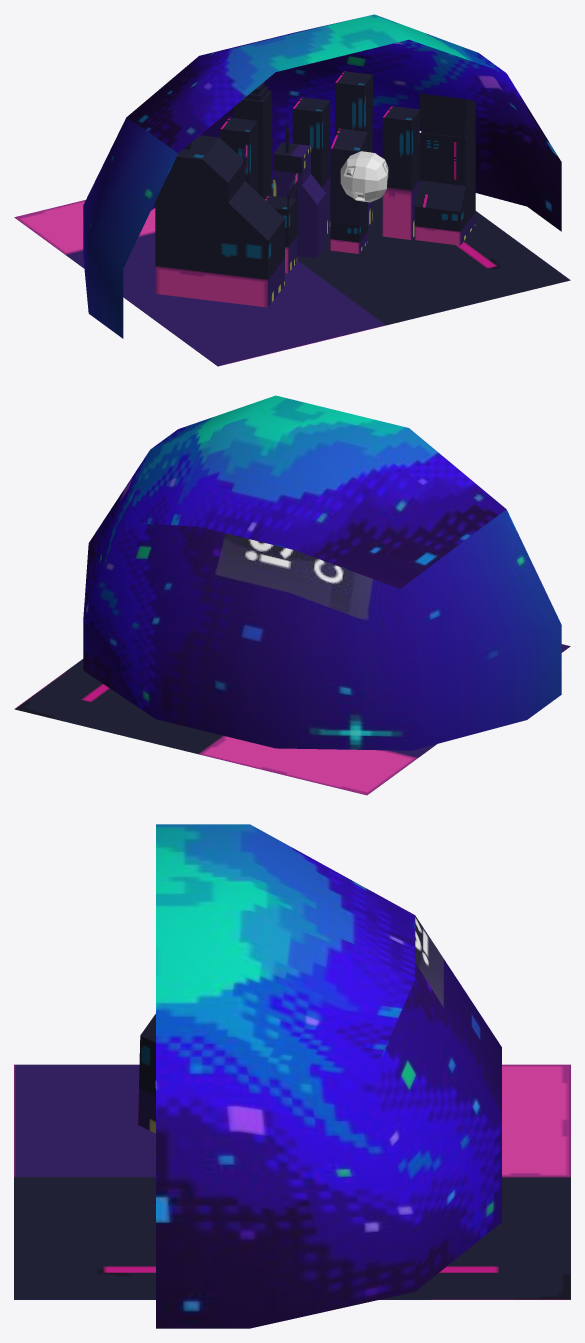
3 views of the same model, one above another, from view 1: azimuth 30°, elevation 25°; view 2: azimuth 150°, elevation 25°; view 3: azimuth 270°, elevation 25° (orthographic). The views are drawn at different scales.
Parts seen in each view (by area): view 1: Cube, Cube.003, Cube.002; view 2: Cube.003, Cube; view 3: Cube.003, Cube.
Part boxes in pixels (x1,y1,x2,y2): Cube: (14,71,570,366); Cube.003: (83,14,561,338); Cube.002: (340,151,388,202); Cube.003: (83,395,561,750); Cube: (14,644,570,795); Cube.003: (156,824,501,1328); Cube: (14,1014,570,1299).
Bounding box in the file's own units: 33.48 × 16.84 × 26.96.
4 materials, 2 textured.
